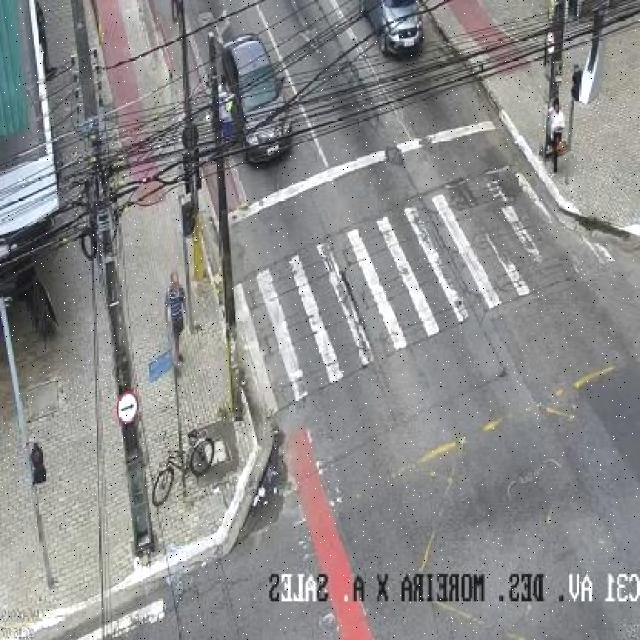bicycle: (151, 429, 215, 506)
car: (222, 34, 291, 163), (362, 0, 422, 54)
road-signs: (149, 351, 171, 382), (118, 392, 138, 423)
traffic-lights: (30, 442, 46, 484), (571, 66, 582, 101)
